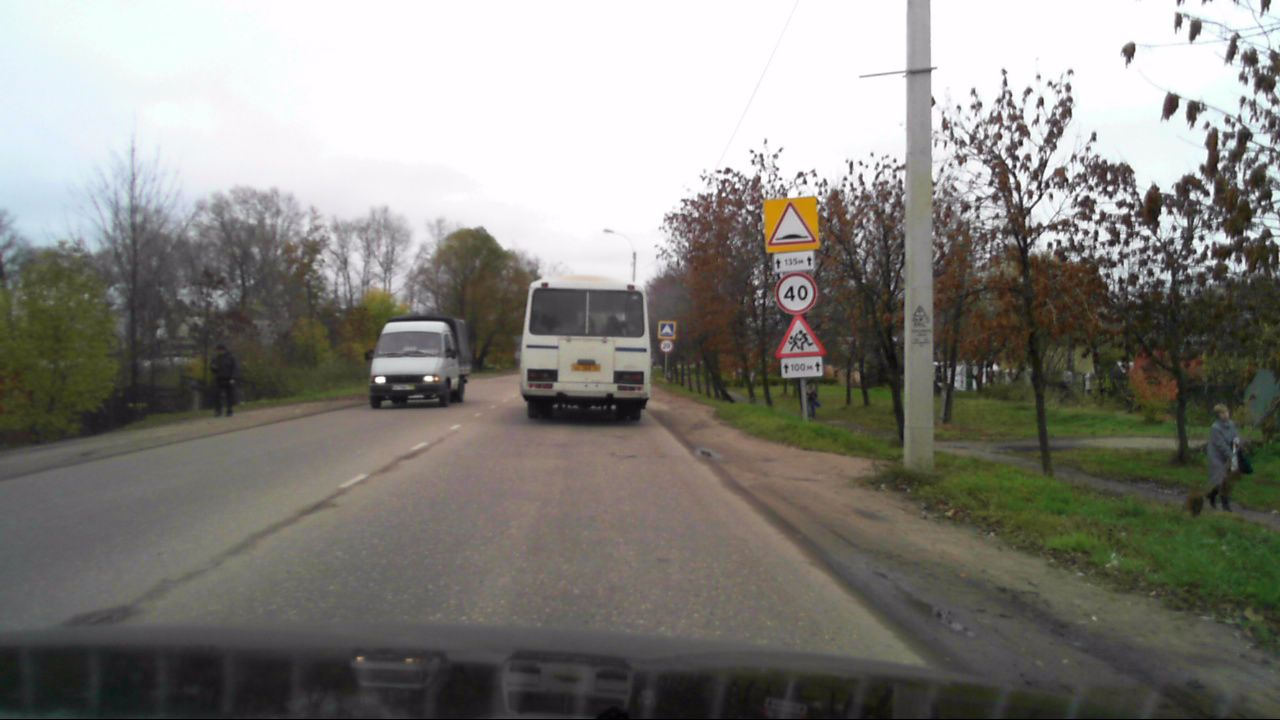speed_warning_40: (775, 271, 818, 313)
